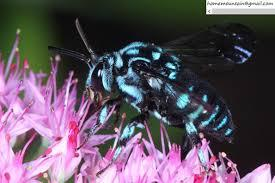Thyreus: (49, 15, 253, 154)
